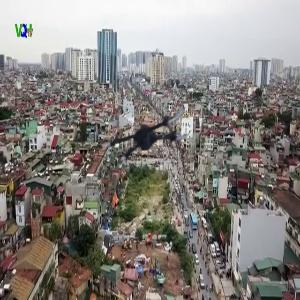drone: (101, 84, 192, 175)
